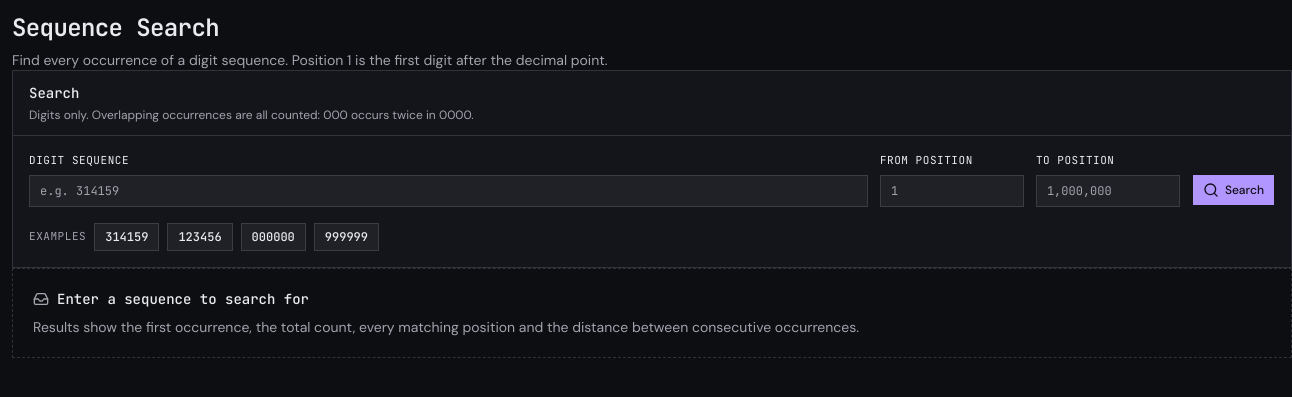
Test: SearchView › asks for a digit when the form is submitted empty
Click the button "Search" at (1233, 190), box [1192,174,1275,206]
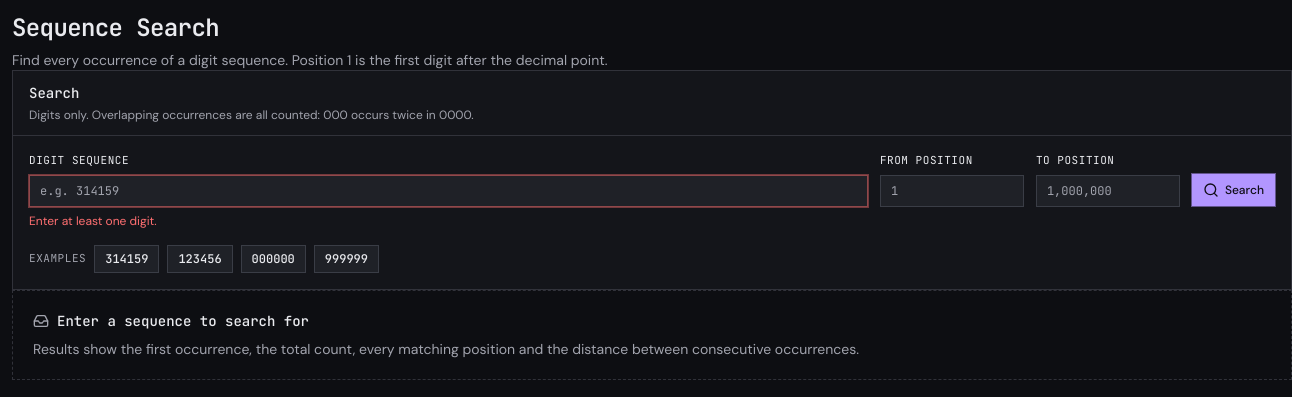
Now the message "Enter at least one digit." is shown, box [29,212,157,228]
